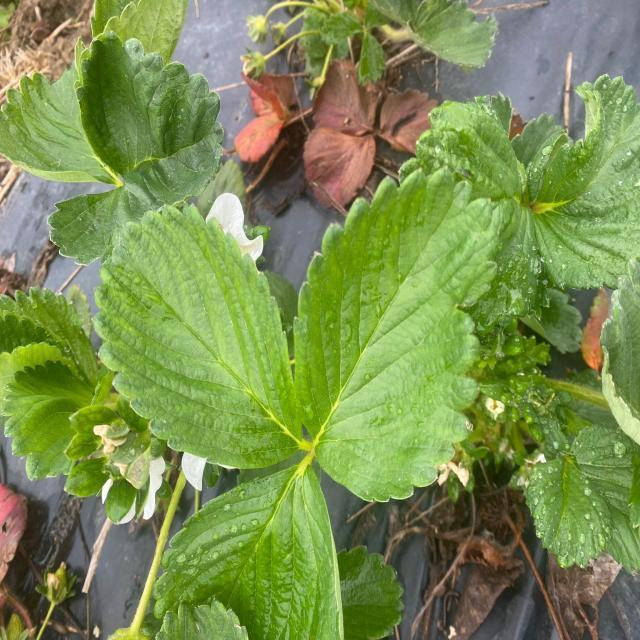flower: (195, 186, 278, 278)
